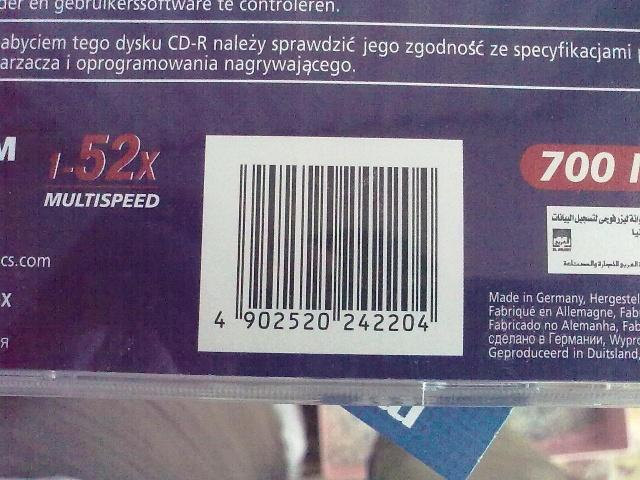Barcode: (211, 158, 445, 344)
